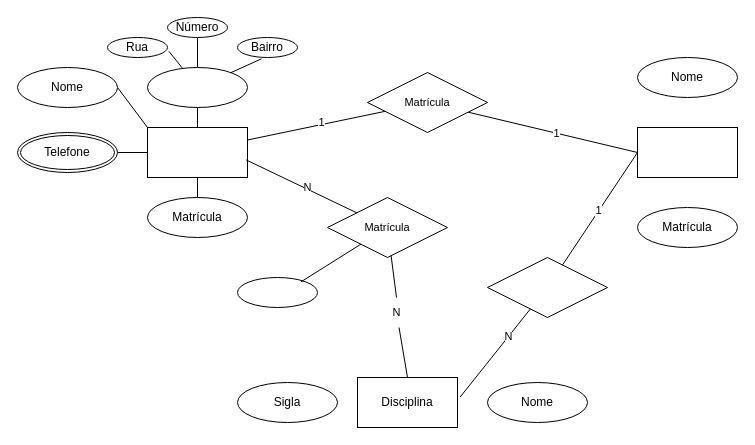
This 755x445 diagram has some shape labels left out. Here are the shapes that lost their labels. From the top down, the centre of each, then its label:
(197,87): Endereço
(197,152): Aluno
(687,152): Professor
(277,292): Data
(547,287): Responsabilidade
